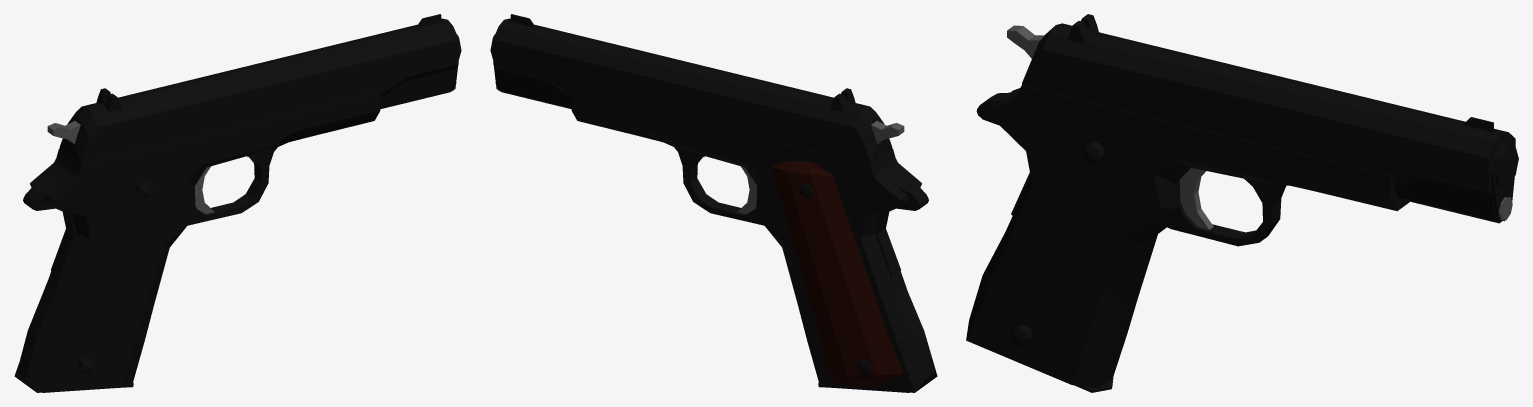
File: Tabasco_M1911.obj
3 renders of one model, left to right at view 1: azimuth 30°, elevation 25°; view 2: azimuth 150°, elevation 25°; view 3: azimuth 330°, elevation 25°, orthographic. The views are drawn at different scales.
Parts seen in each view (by area): view 1: Cube; view 2: Cube; view 3: Cube.
Part boxes in pixels (box(x1,y1,x2,y2)): Cube: box(14, 14, 461, 392); Cube: box(490, 14, 937, 392); Cube: box(966, 14, 1518, 392).
Bounding box in the file's own units: 9.23 × 5.99 × 1.22.
